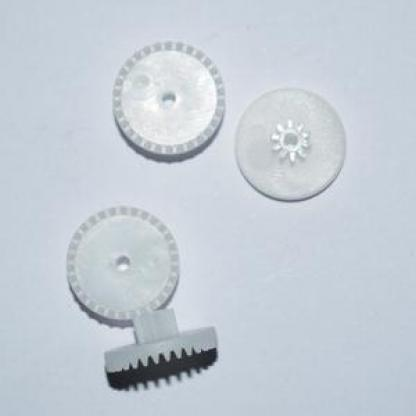FOD: (268, 117, 312, 162)
